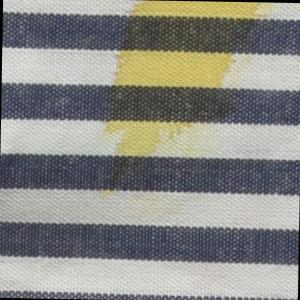Stain: (93, 1, 276, 202)
